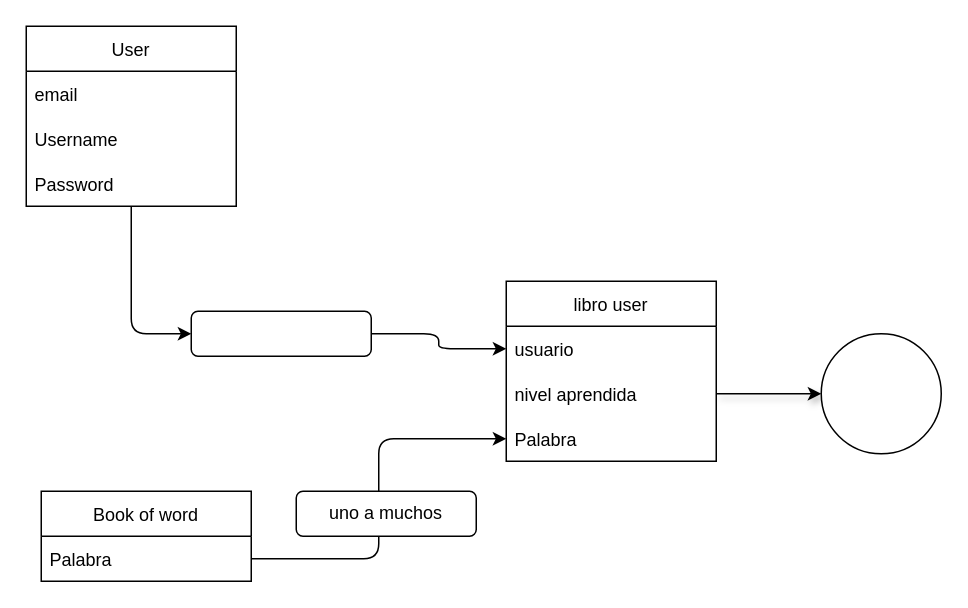
This 968x608 diagram has some shape labels left out. The centre of each missing label's shape, as x and y in pixels:
modificado a diario por el front: (880,393)
uno a uno: (280,333)
